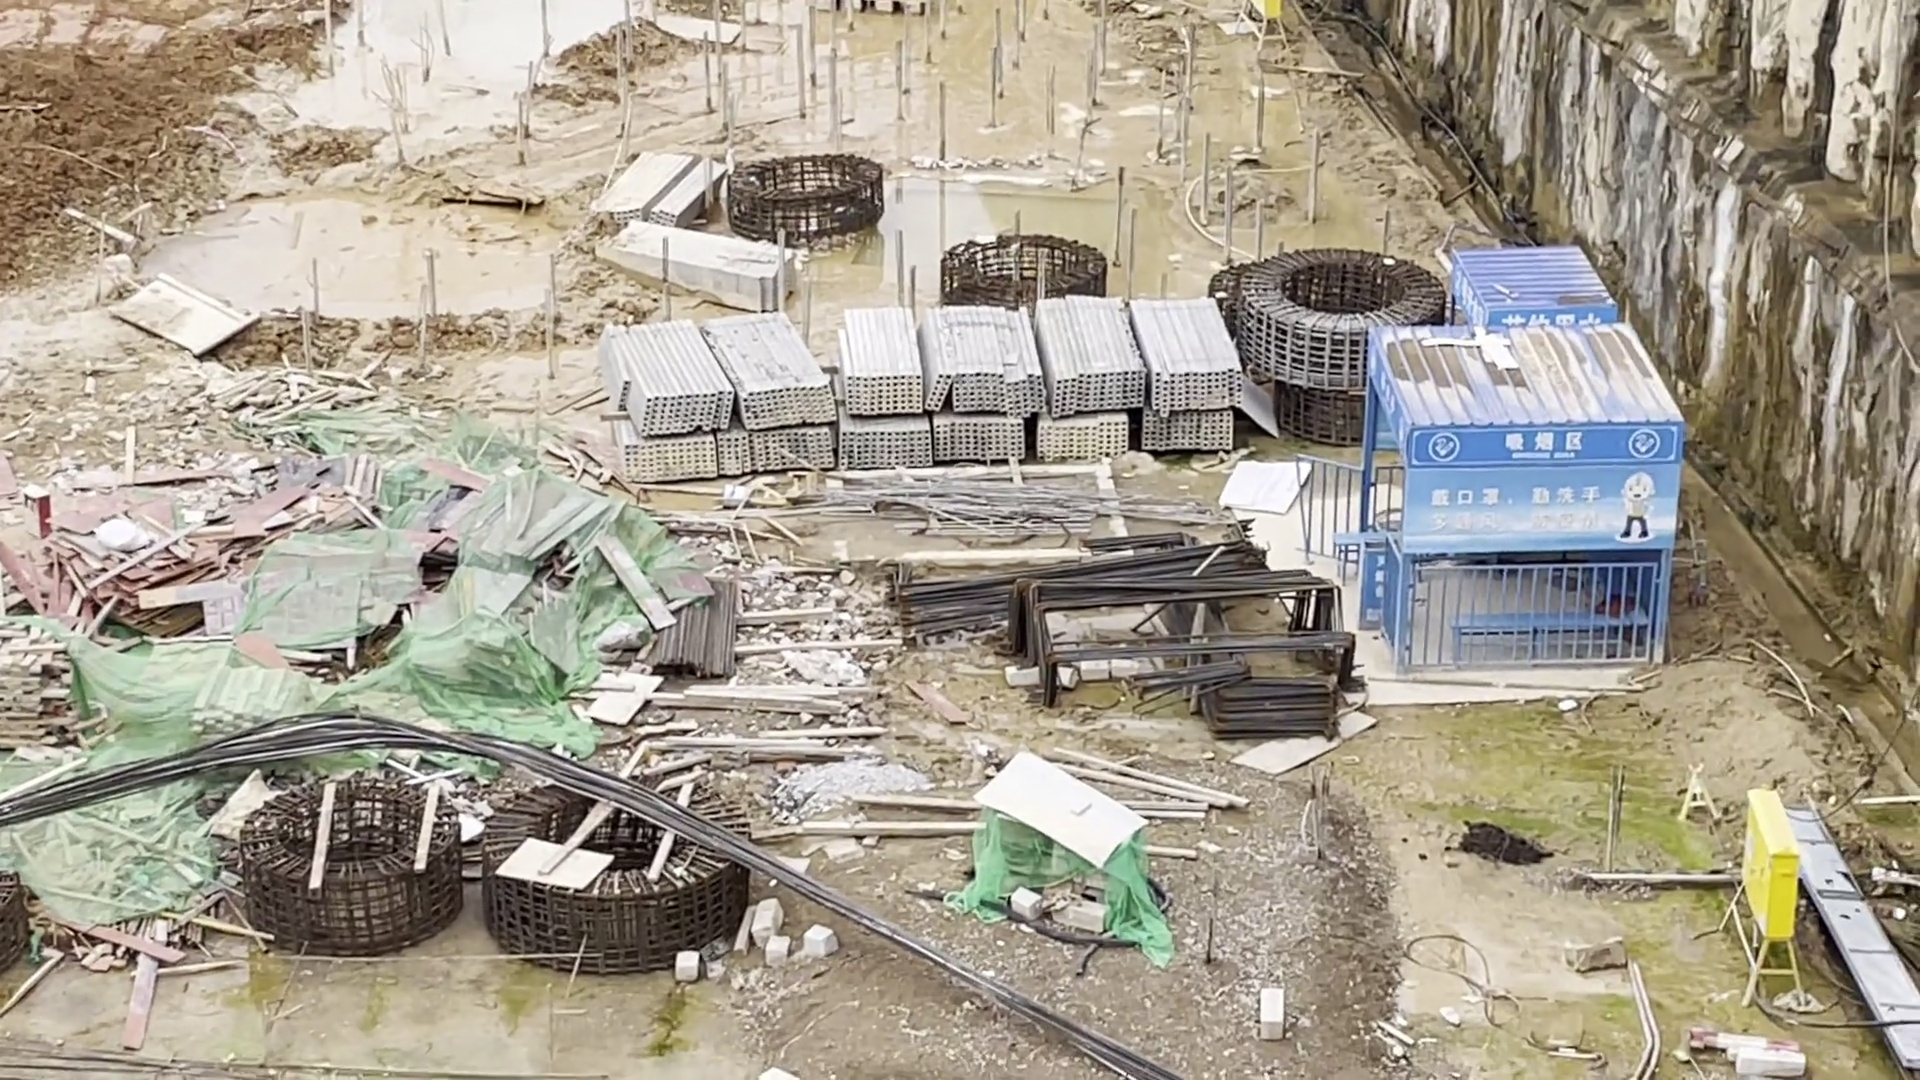ebox: (1718, 787, 1808, 994)
slogan: (1428, 476, 1629, 542)
